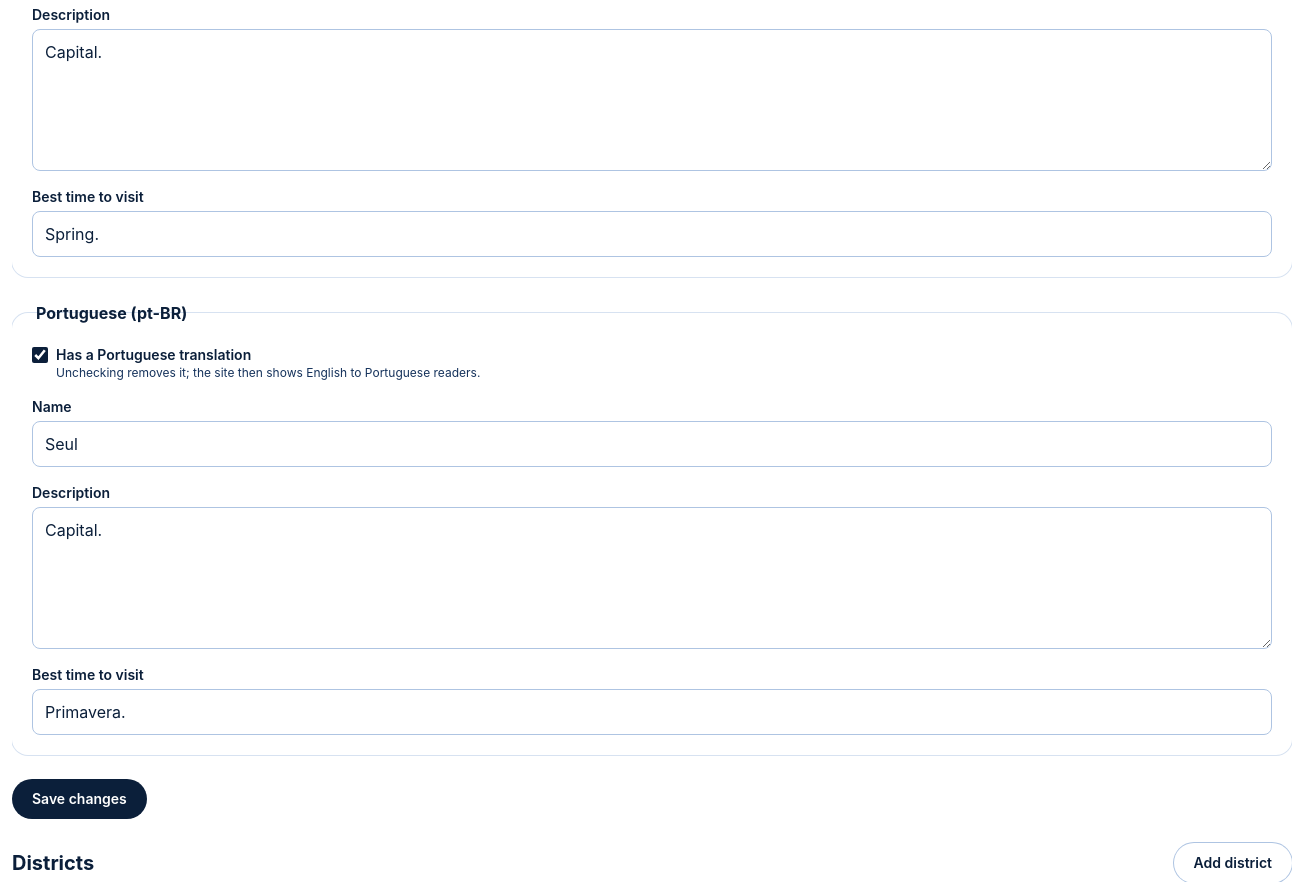
Test: CityForm › puts the API's validation messages next to the matching fields
(page scrolled)
What coordinates should you click on to do the following:
click the button "Save changes"
I would click on:
 (79, 799)
Its box is x1=12 y1=779 x2=147 y2=819.
(page scrolled)
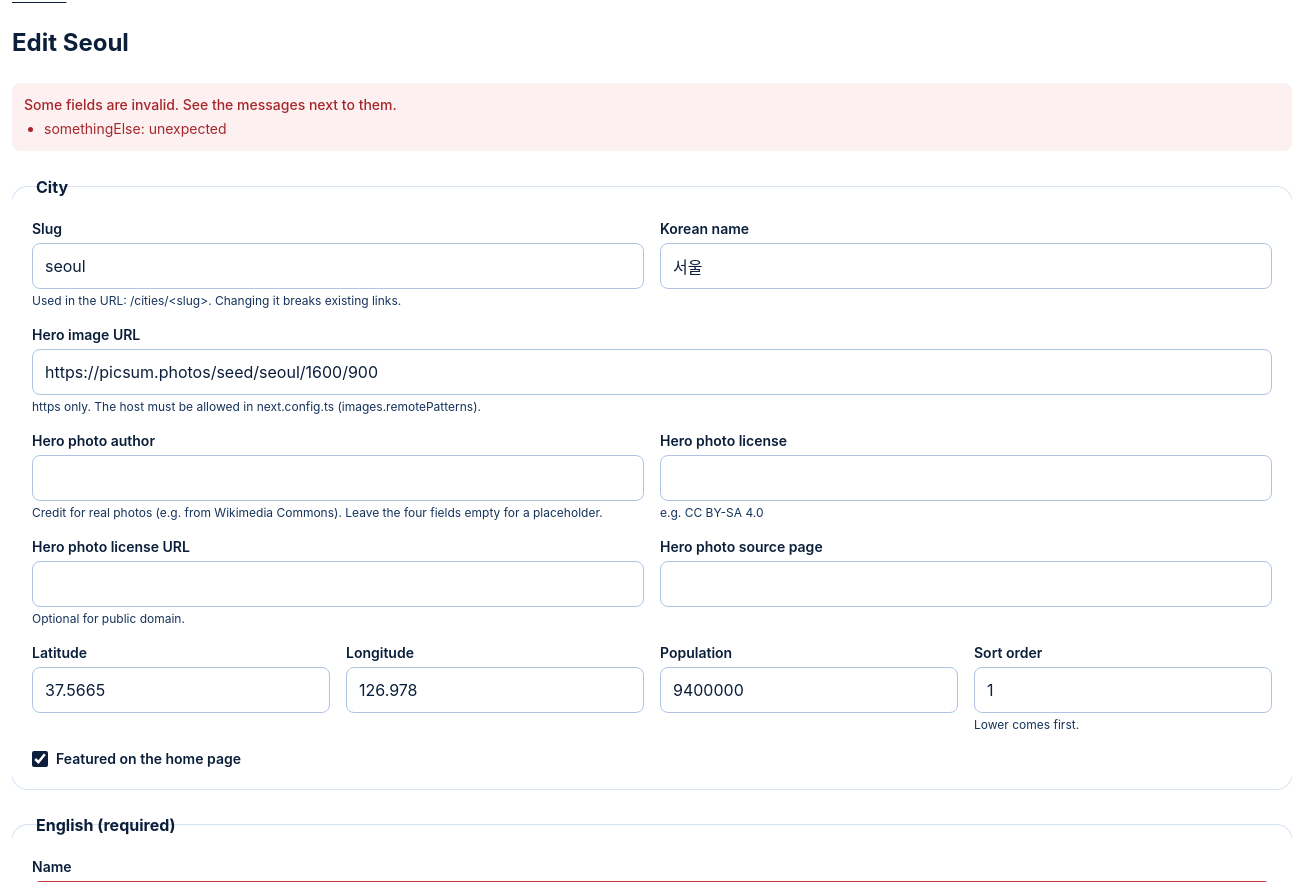
Expected: the message shows "Some fields are invalid.", x1=24 y1=96 x2=397 y2=113
Expected: the message shows "somethingElse: unexpected", x1=44 y1=120 x2=227 y2=137
